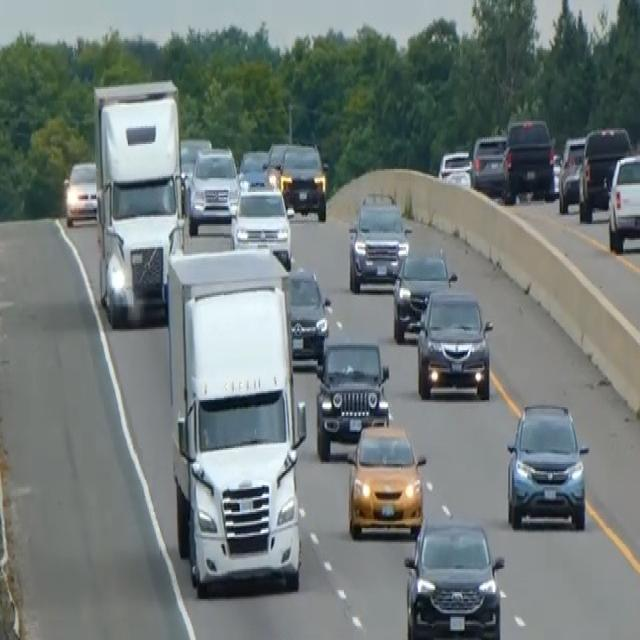car: (403, 514, 505, 638), (504, 398, 589, 532), (345, 419, 426, 538), (314, 336, 391, 459), (414, 284, 494, 400), (347, 190, 410, 294), (391, 249, 455, 343), (577, 122, 633, 220), (230, 183, 292, 269), (185, 144, 240, 231), (501, 116, 555, 202), (285, 263, 331, 363), (275, 140, 328, 220), (606, 150, 639, 252), (63, 158, 98, 226), (557, 134, 586, 214), (470, 132, 507, 194), (178, 133, 211, 185), (237, 146, 270, 190), (437, 148, 472, 186), (264, 138, 287, 188)
lorry: (163, 244, 308, 596)
